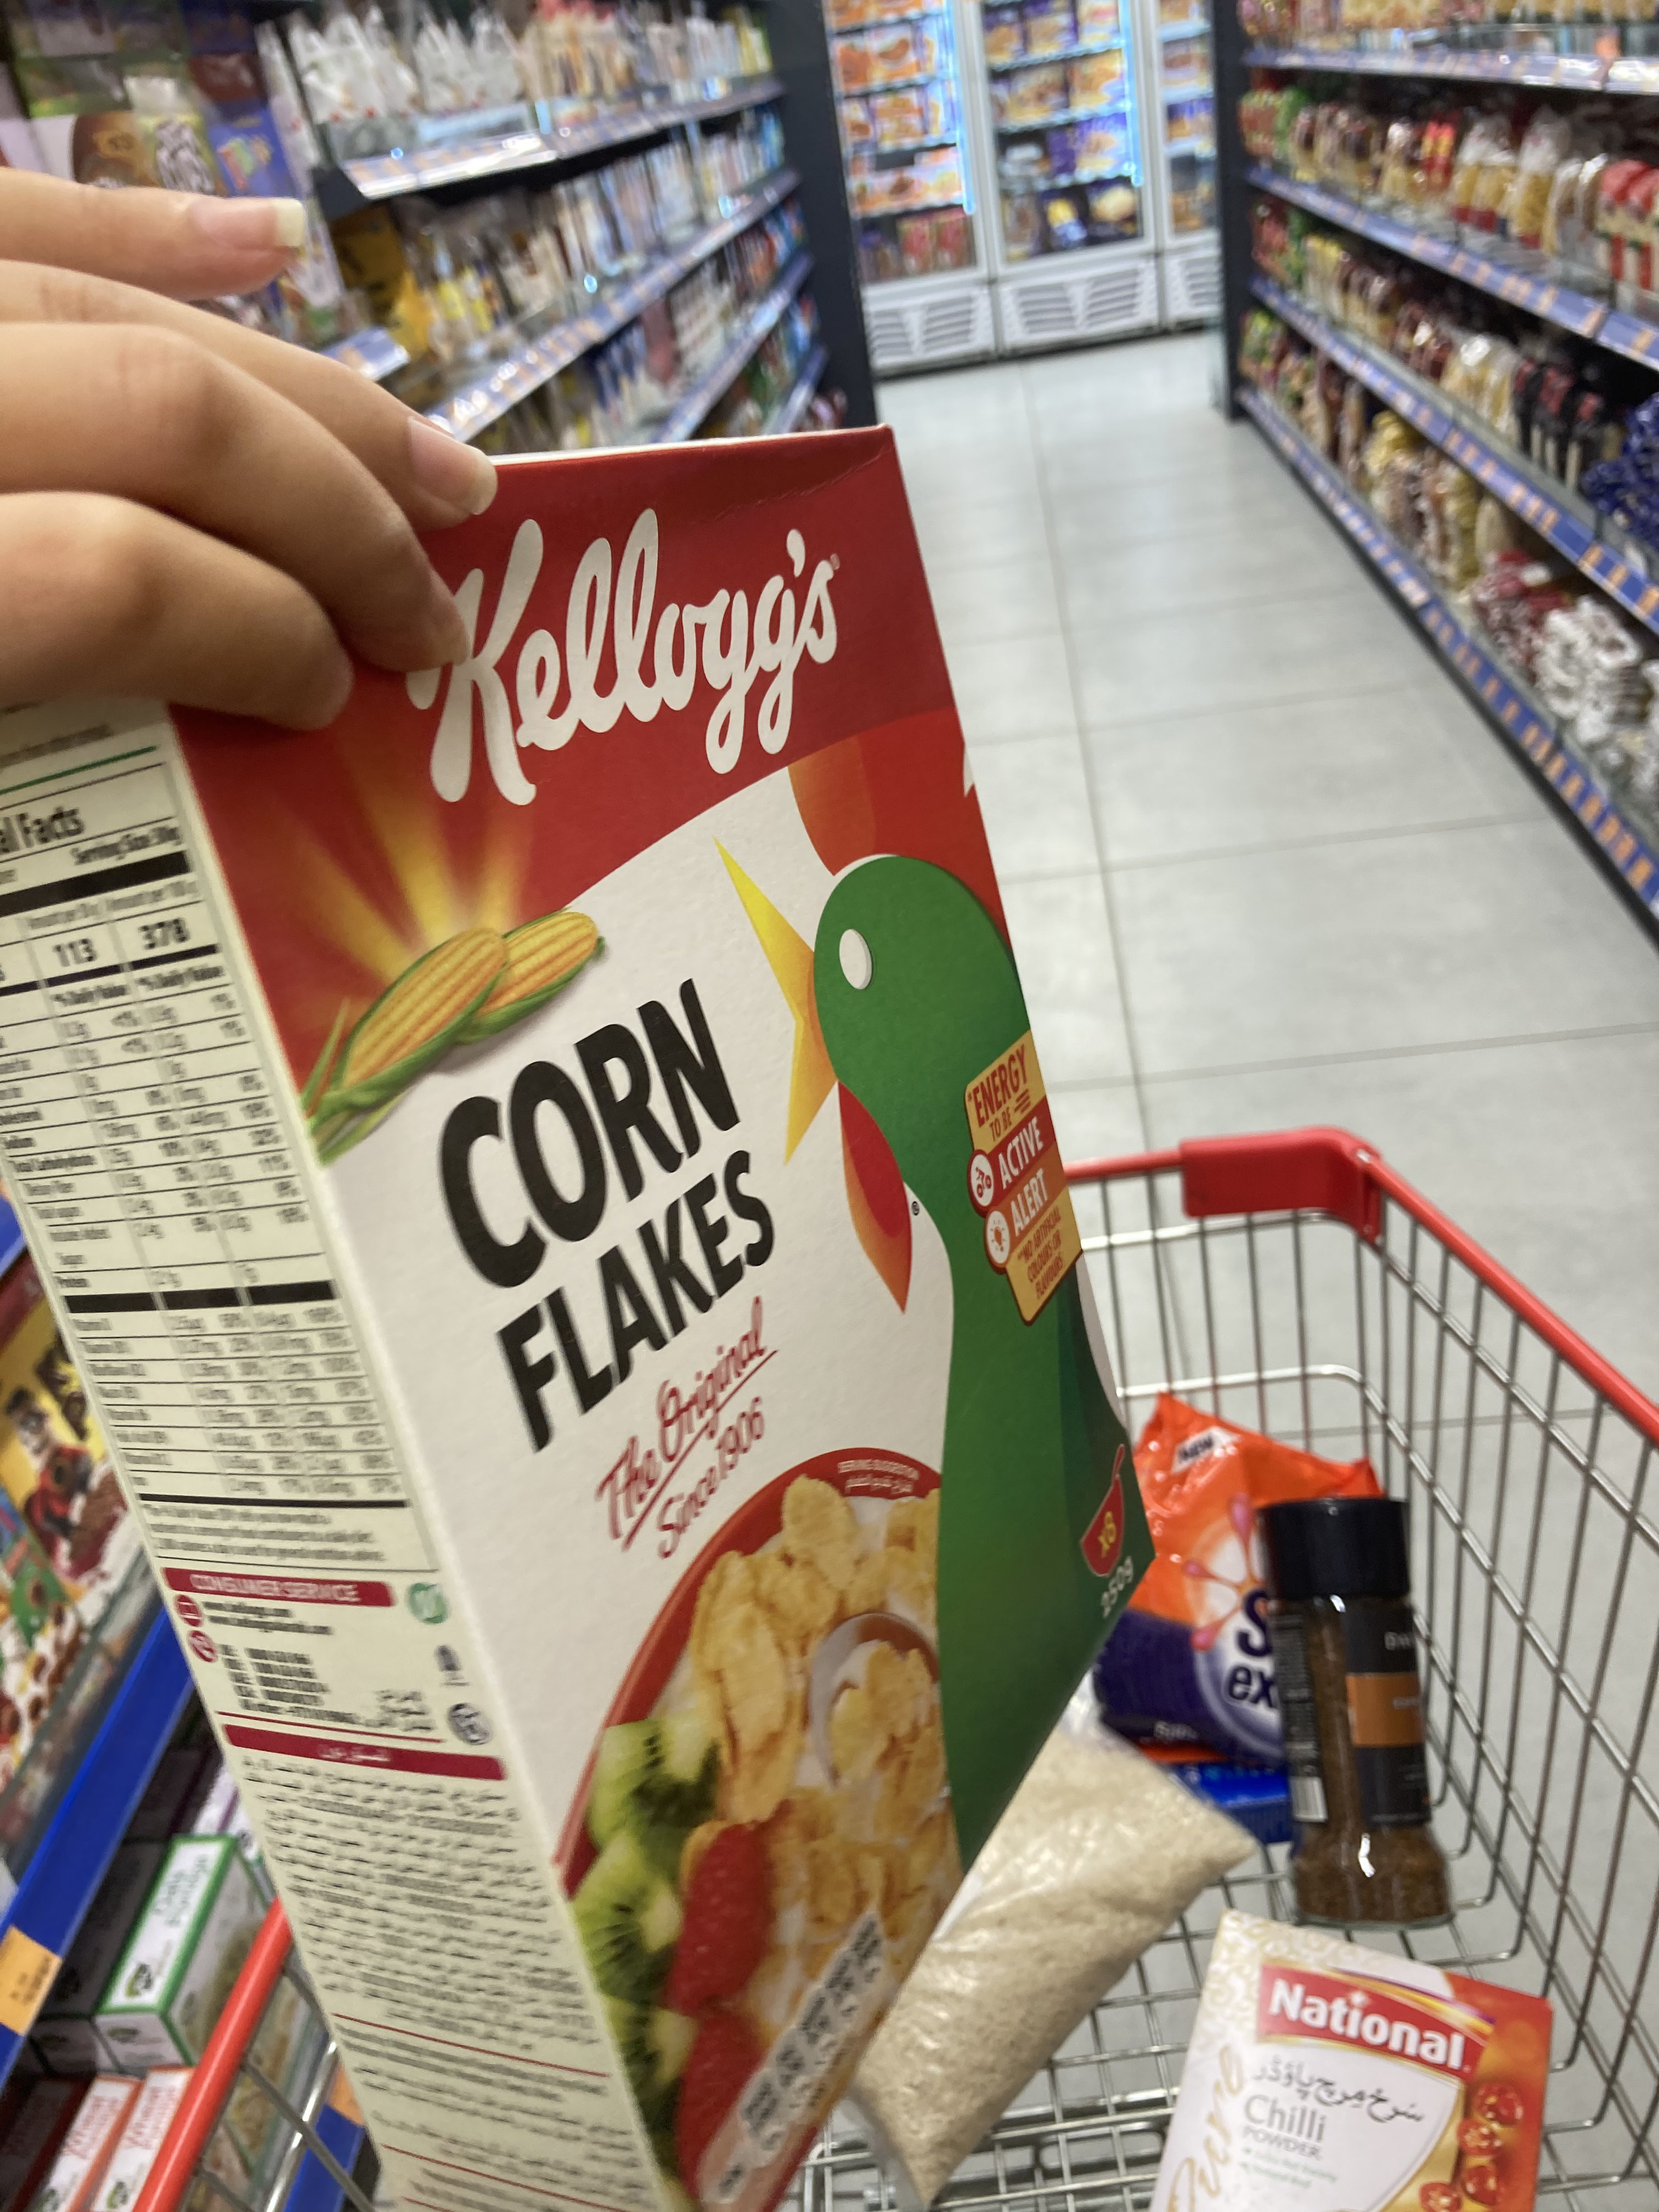Kellogg's Corn Flakes: (2, 420, 1161, 2200)
